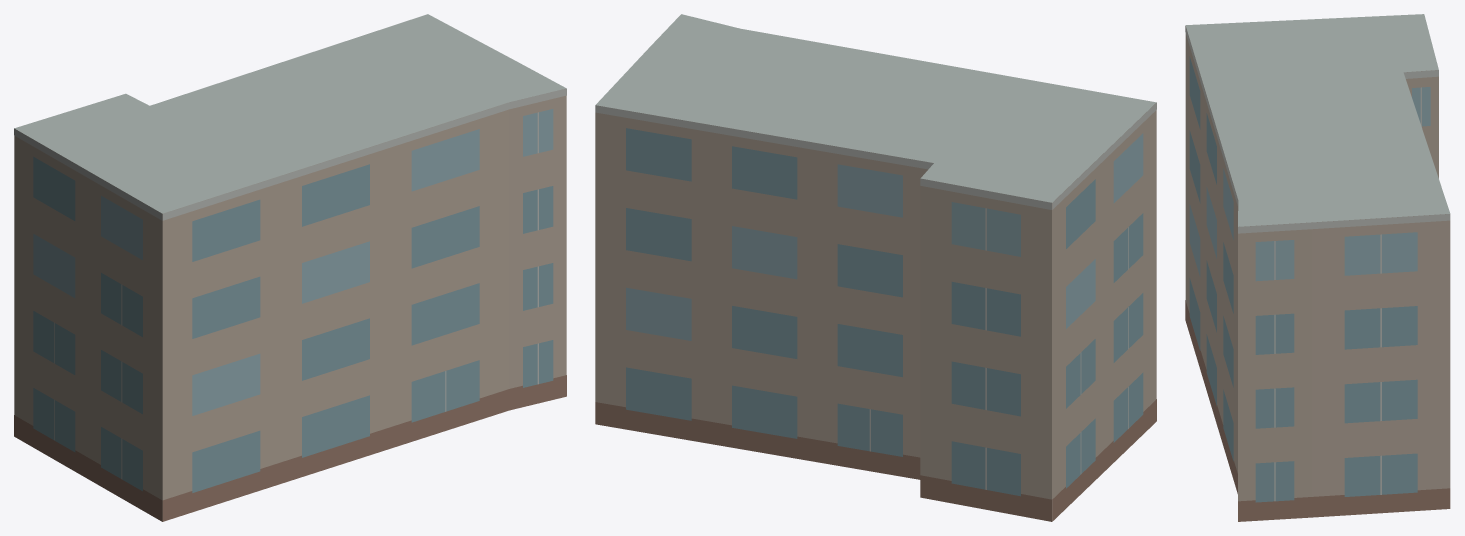
The model's file is survey-upis-32577177.glb.
3 renders of one model, left to right at view 1: azimuth 30°, elevation 25°; view 2: azimuth 150°, elevation 25°; view 3: azimuth 270°, elevation 25°, orthographic. The views are drawn at different scales.
Parts seen in each view (by area): view 1: survey-upis-32577177.tmp; view 2: survey-upis-32577177.tmp; view 3: survey-upis-32577177.tmp.
Part boxes in pixels (x1,y1,x2,y2): survey-upis-32577177.tmp: (14, 14, 566, 521); survey-upis-32577177.tmp: (595, 14, 1156, 521); survey-upis-32577177.tmp: (1185, 14, 1450, 521).
Size of the model in its own units: 16.41 by 10.6 by 8.64.
